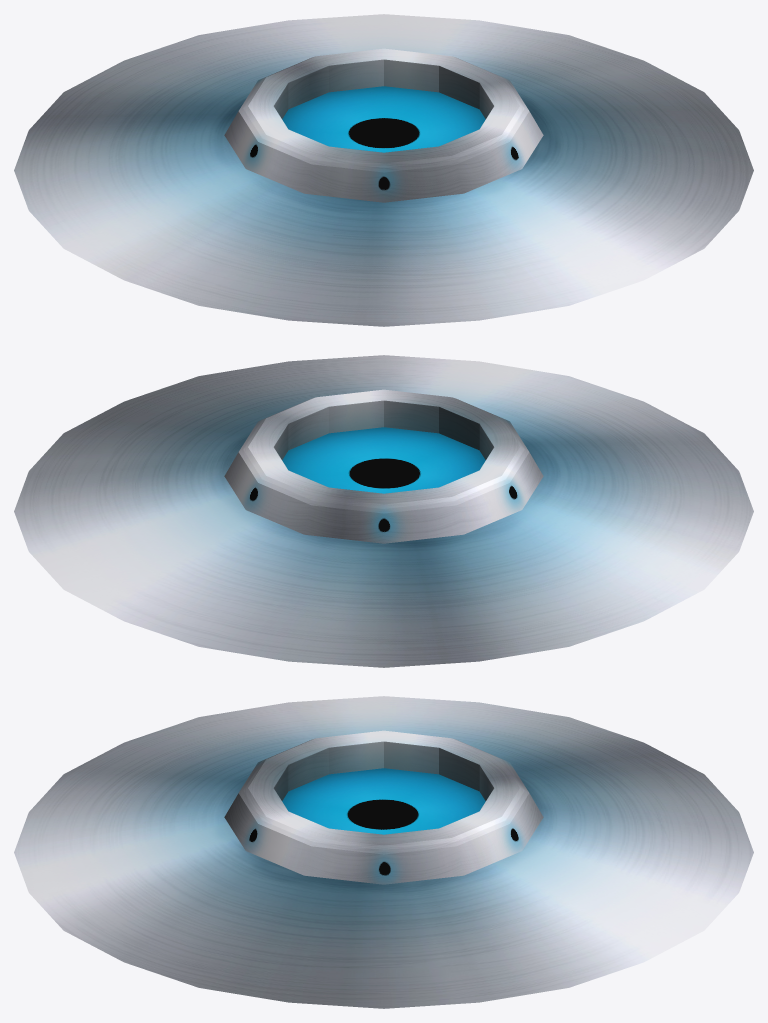
The model's file is UFO.fbx.
3 views of the same model, one above another, from view 1: azimuth 30°, elevation 25°; view 2: azimuth 150°, elevation 25°; view 3: azimuth 270°, elevation 25° (orthographic).
Parts seen in each view (by area): view 1: UFO1; view 2: UFO1; view 3: UFO1.
Boxes of the visible parts, bbox=[...] form: UFO1: bbox=[14, 14, 753, 326]; UFO1: bbox=[14, 355, 753, 667]; UFO1: bbox=[14, 696, 753, 1008].
Bounding box in the file's own units: 348 × 84.45 × 348.
